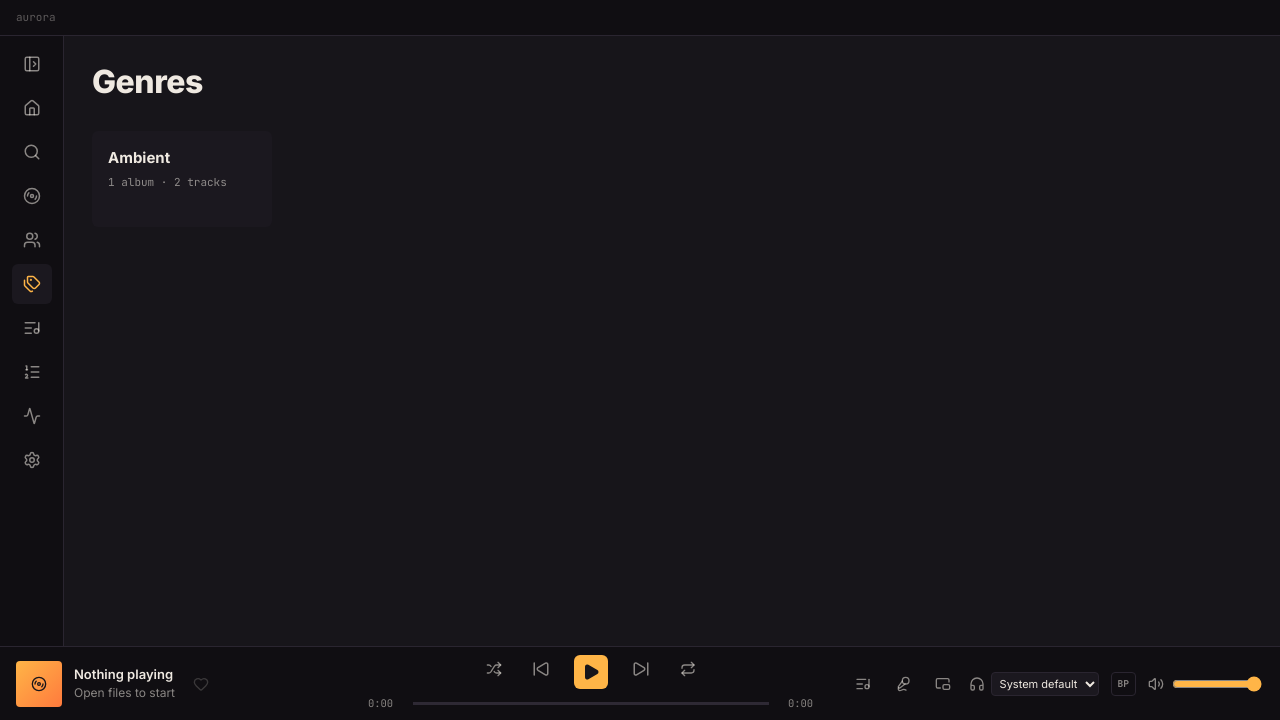
Test case: artists and genres › goes from a genre to its albums
This screenshot has width=1280, height=720.
Click the text "Ambient".
click(139, 158)  # box [108,147,170,169]
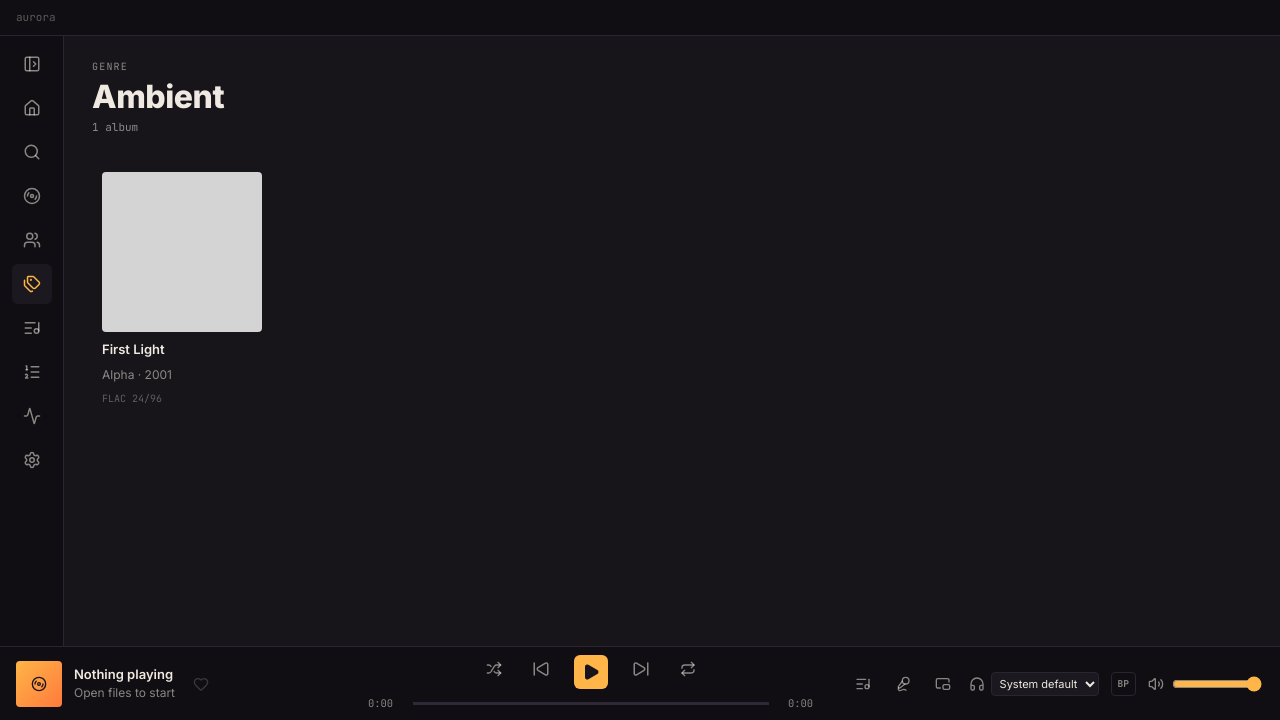
Now the link "First Light" is shown, box [102,341,165,357]
